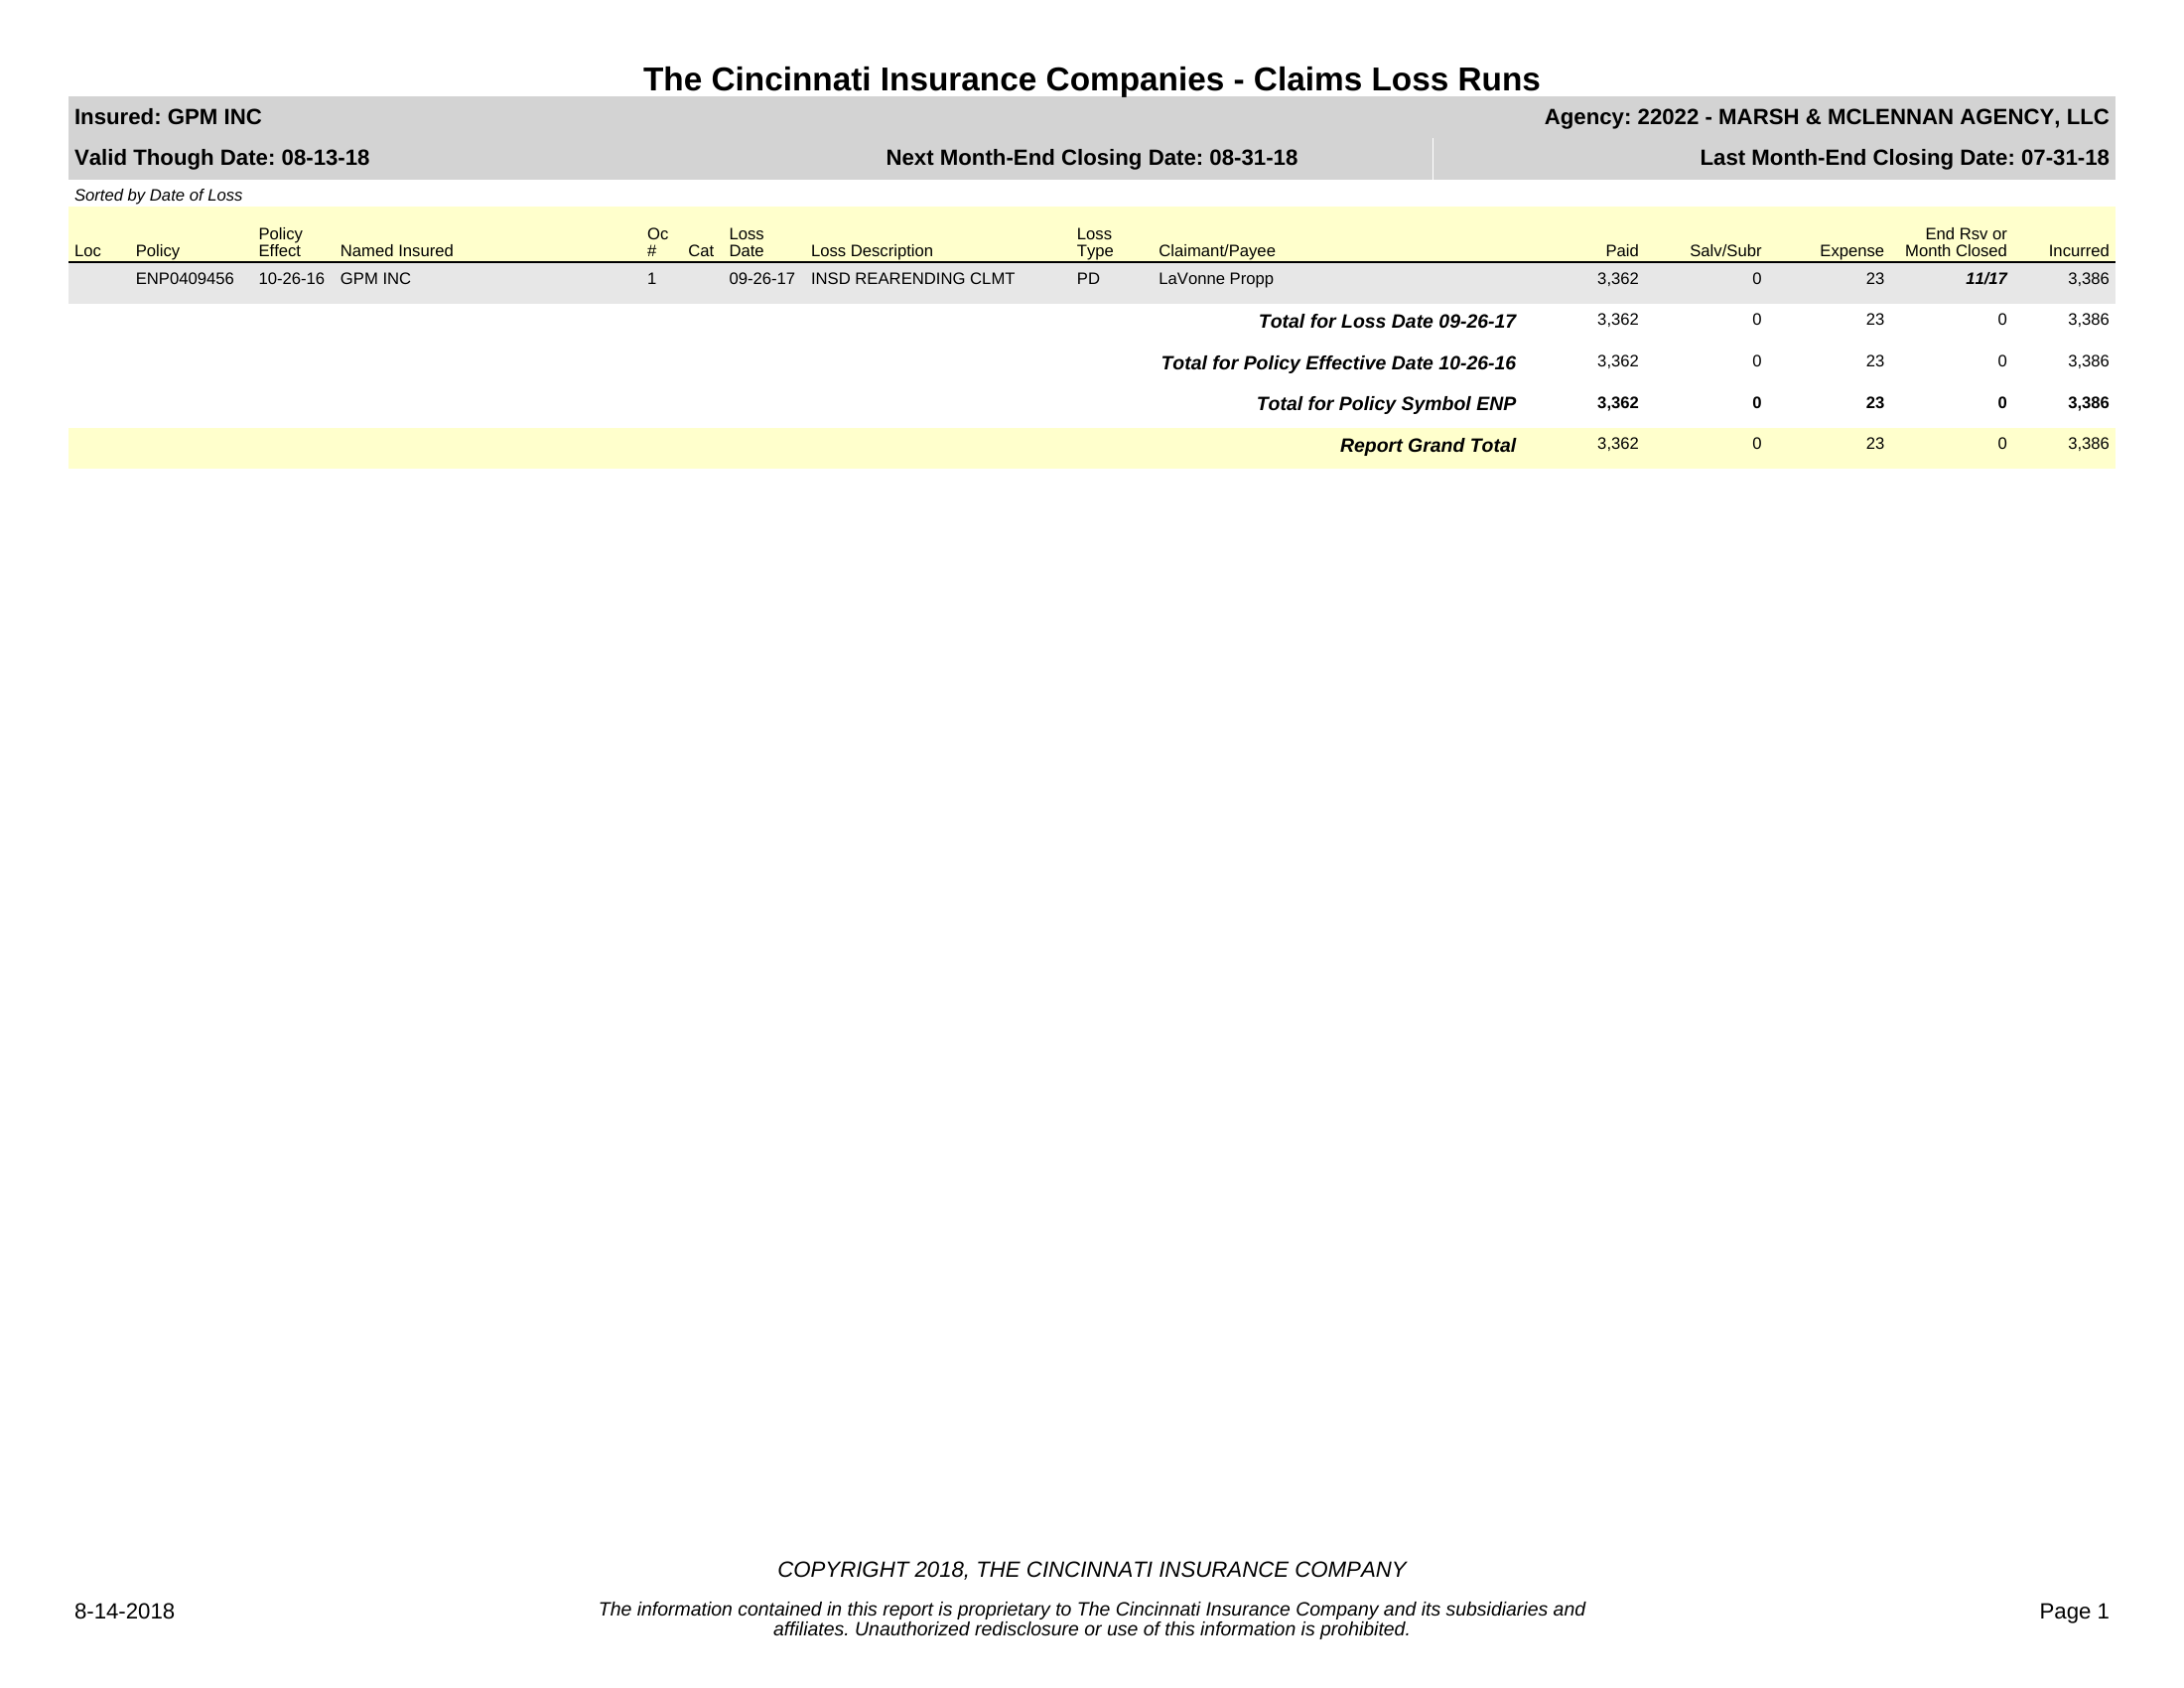others: (62, 200, 2124, 532)
